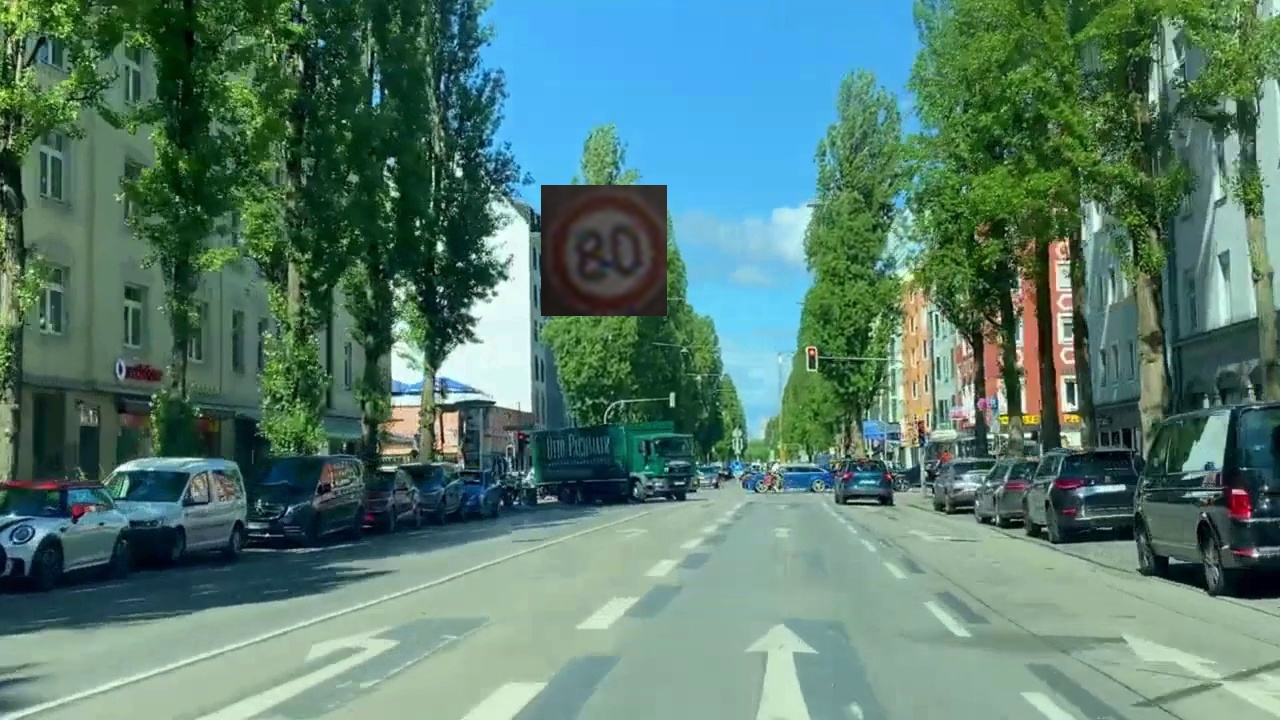Speed 80: (541, 185, 667, 316)
